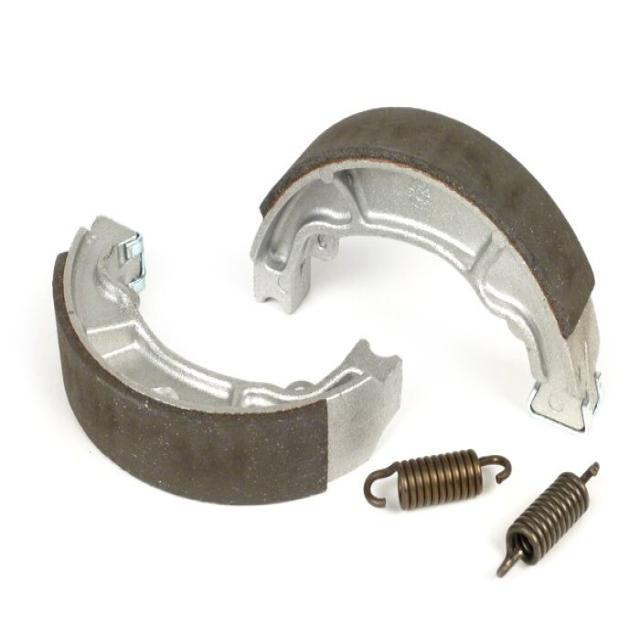brake_pad: (248, 108, 630, 346), (56, 350, 417, 507)
